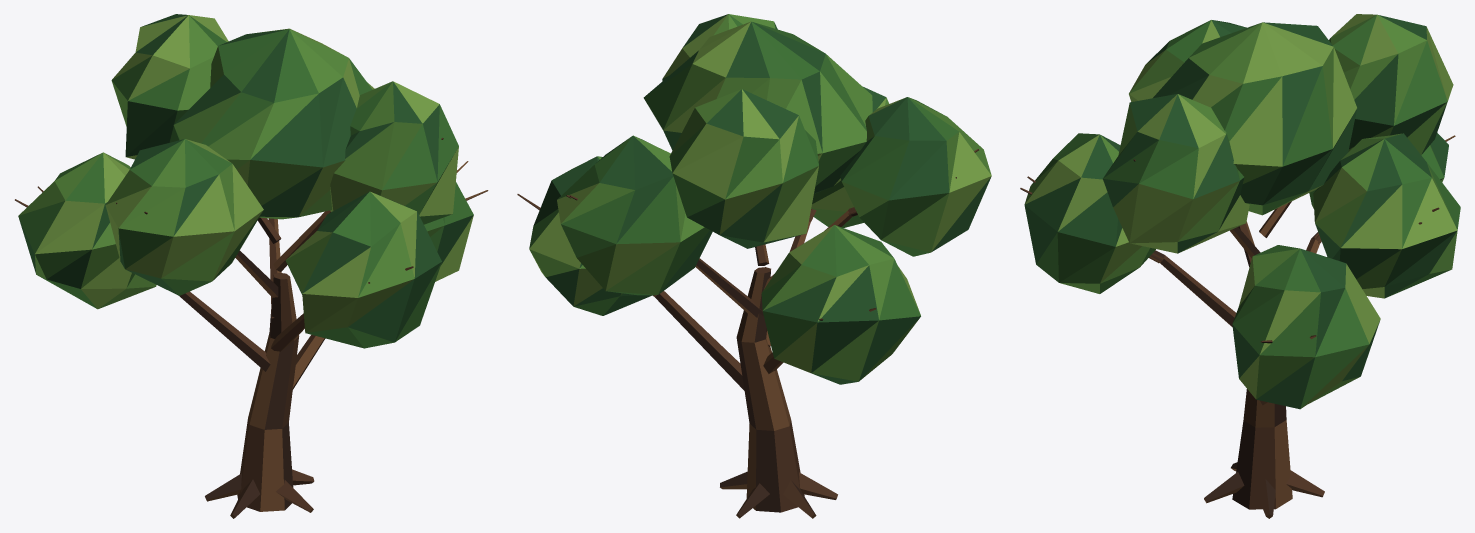
File: tree_maple_green.obj
The picture shows the model from 3 angles, left to right: view 1: azimuth 30°, elevation 25°; view 2: azimuth 150°, elevation 25°; view 3: azimuth 270°, elevation 25°; orthographic projection. The views are drawn at different scales.
Parts seen in each view (by area): view 1: tree_maple_green; view 2: tree_maple_green; view 3: tree_maple_green.
Boxes of the visible parts, x1,y1,x2,y2 form: tree_maple_green: [15, 14, 488, 518]; tree_maple_green: [517, 14, 991, 518]; tree_maple_green: [1020, 14, 1460, 518].
Bounding box in the file's own units: 400 × 430 × 352.
1 material, 1 textured.
